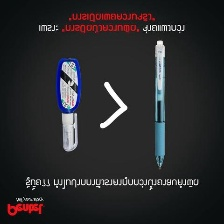correction_fluid: (53, 55, 83, 153)
